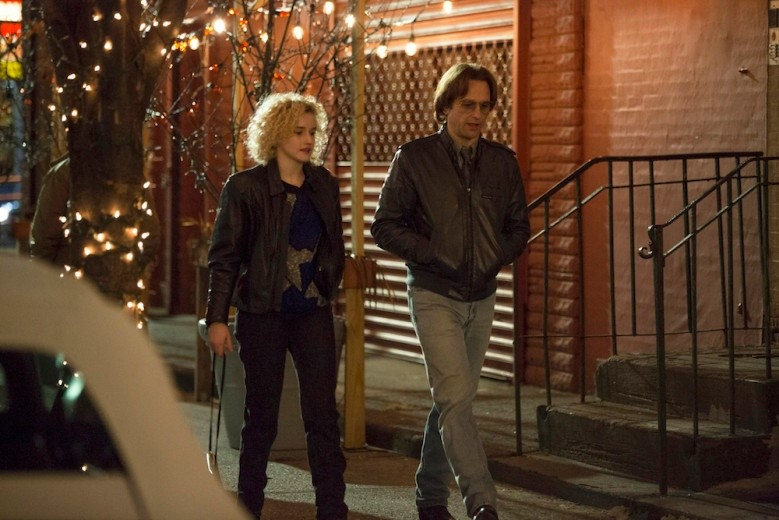face_no_mask: (248, 93, 325, 165), (433, 64, 495, 138)
